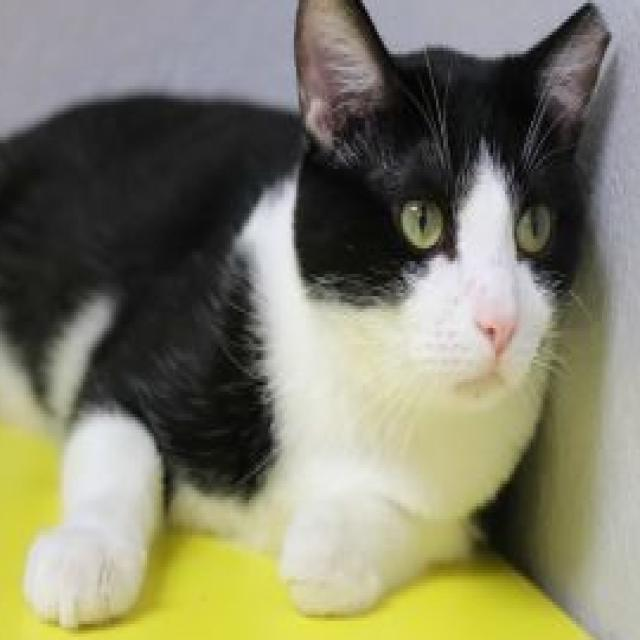Tuxedo: (0, 0, 614, 634)
